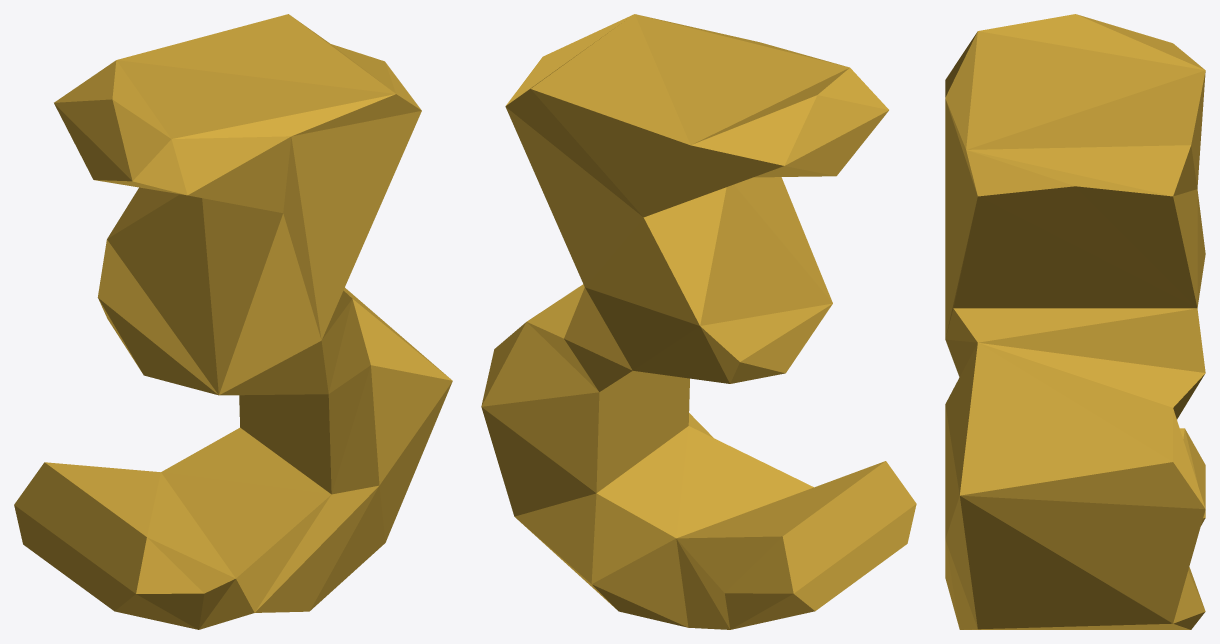
3 renders of one model, left to right at view 1: azimuth 30°, elevation 25°; view 2: azimuth 150°, elevation 25°; view 3: azimuth 270°, elevation 25°, orthographic. The views are drawn at different scales.
Parts seen in each view (by area): view 1: 3_0057D0_0; view 2: 3_0057D0_0; view 3: 3_0057D0_0.
Boxes of the visible parts, x1,y1,x2,y2 form: 3_0057D0_0: (14, 14, 452, 629); 3_0057D0_0: (481, 14, 916, 629); 3_0057D0_0: (945, 14, 1205, 629).
Bounding box in the file's own units: 46.85 × 69.89 × 30.
